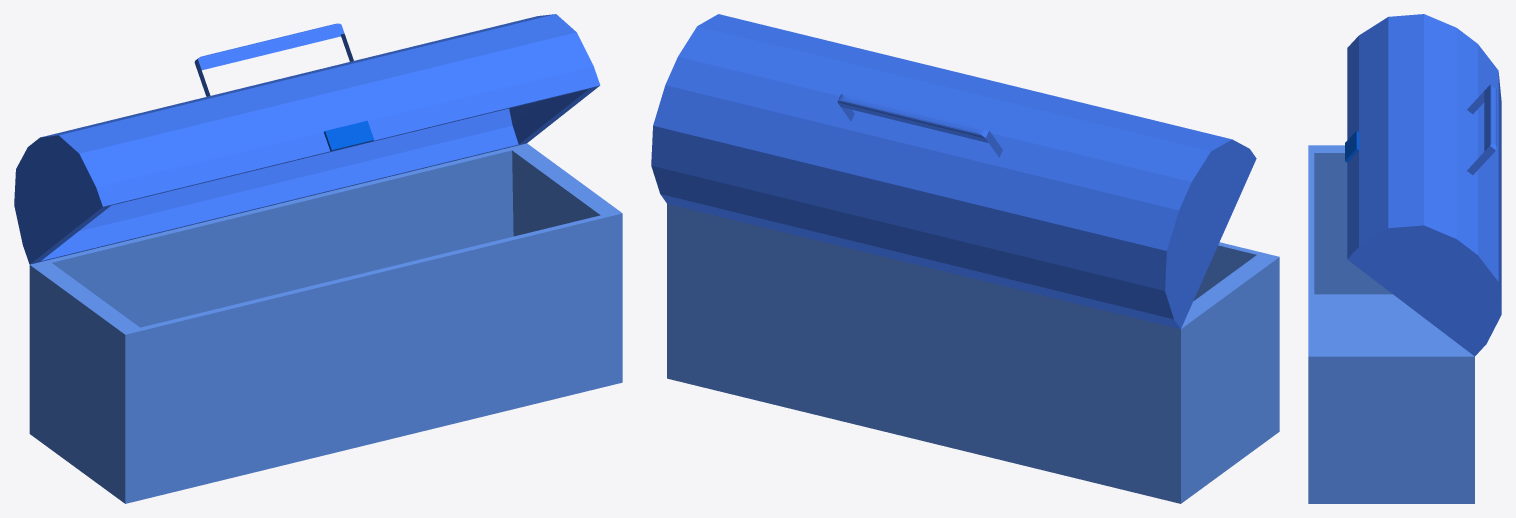
The model's file is toolbox.fbx.
3 views of the same model, side by side, from view 1: azimuth 30°, elevation 25°; view 2: azimuth 150°, elevation 25°; view 3: azimuth 270°, elevation 25° (orthographic). The views are drawn at different scales.
Parts seen in each view (by area): view 1: lock; view 2: lock; view 3: lock.
Boxes of the visible parts, left/top/right/bottom form: lock: left=14, top=14, right=622, bottom=503; lock: left=651, top=14, right=1279, bottom=503; lock: left=1308, top=14, right=1501, bottom=503.
Size of the model in its own units: 86.4 by 54.05 by 33.43.
